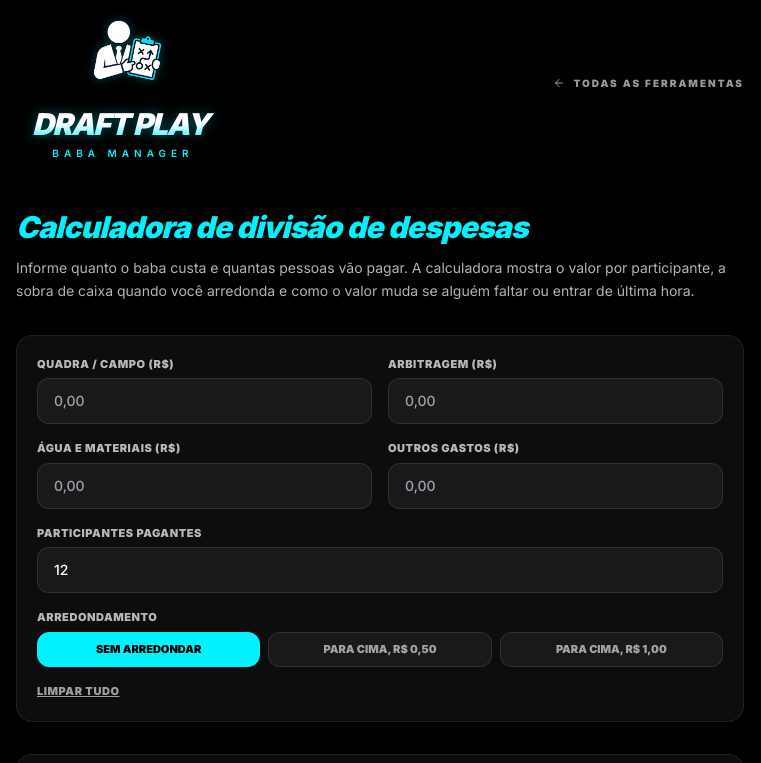
Scenario: Divisão de despesas › valor inválido mostra mensagem
The width and height of the screenshot is (761, 763).
In the field labelled "Quadra / campo (R$)": [204, 401] box top-left (37, 378), bottom-right (372, 424), type "abc"
(page scrolled)
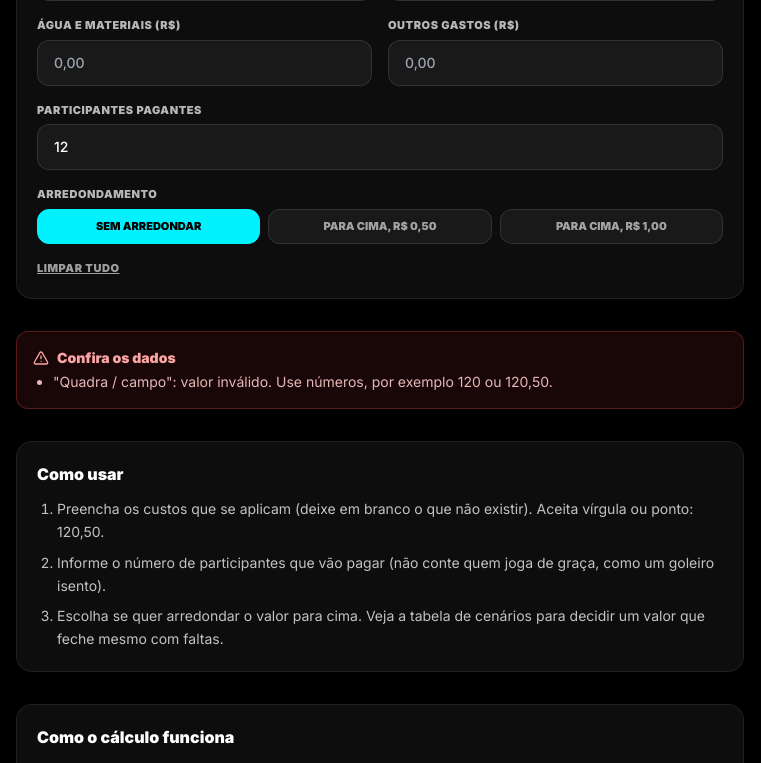
Expected: the message shows "valor inválido", top-left (53, 373), bottom-right (553, 390)
